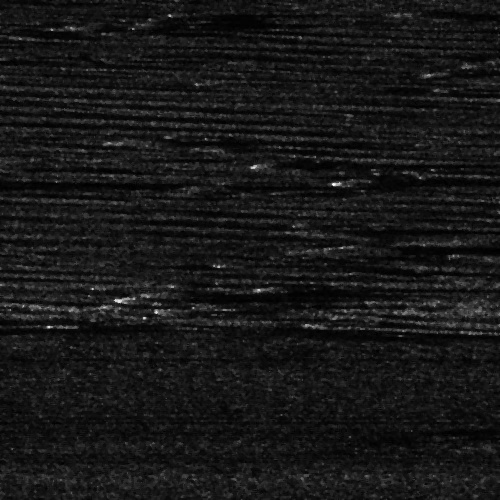object: (285, 0, 500, 24), (262, 222, 387, 233), (109, 284, 214, 297), (77, 289, 182, 302), (320, 177, 361, 186), (462, 57, 500, 64), (238, 283, 291, 288)
shadow: (0, 174, 155, 191), (395, 0, 500, 24), (162, 284, 345, 297), (130, 289, 312, 302), (324, 222, 500, 233), (340, 177, 500, 186), (0, 322, 116, 333), (0, 315, 83, 322), (264, 283, 327, 288)
